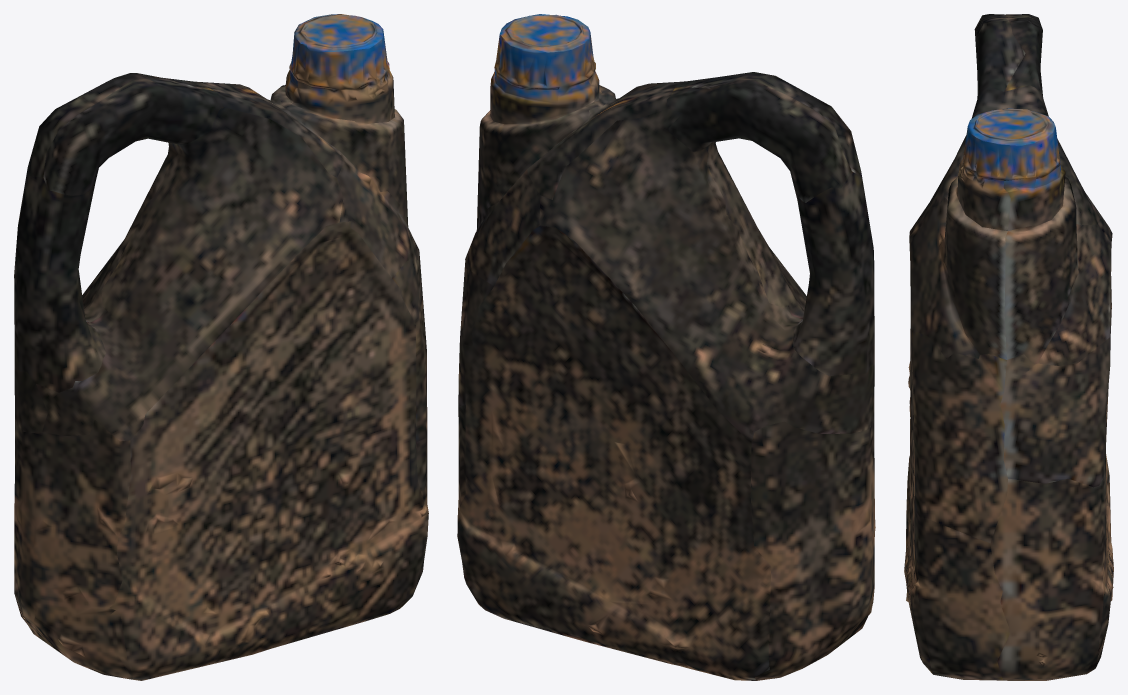
Rendered from SM_Ind_Con_Oil_Plastic_Pack_02_F.gltf.
3 renders of one model, left to right at view 1: azimuth 30°, elevation 25°; view 2: azimuth 150°, elevation 25°; view 3: azimuth 270°, elevation 25°, orthographic. The views are drawn at different scales.
Visible parts, largest first — view 1: SM_Ind_Con_Oil_Plastic_Pack_02_F; view 2: SM_Ind_Con_Oil_Plastic_Pack_02_F; view 3: SM_Ind_Con_Oil_Plastic_Pack_02_F.
Boxes of the visible parts, x1,y1,x2,y2 form: SM_Ind_Con_Oil_Plastic_Pack_02_F: [14, 14, 428, 680]; SM_Ind_Con_Oil_Plastic_Pack_02_F: [457, 14, 875, 680]; SM_Ind_Con_Oil_Plastic_Pack_02_F: [904, 14, 1113, 680].
Bounding box in the file's own units: 0.1577 × 0.2207 × 0.0765.
Materials: 1 (1 with a texture image).
